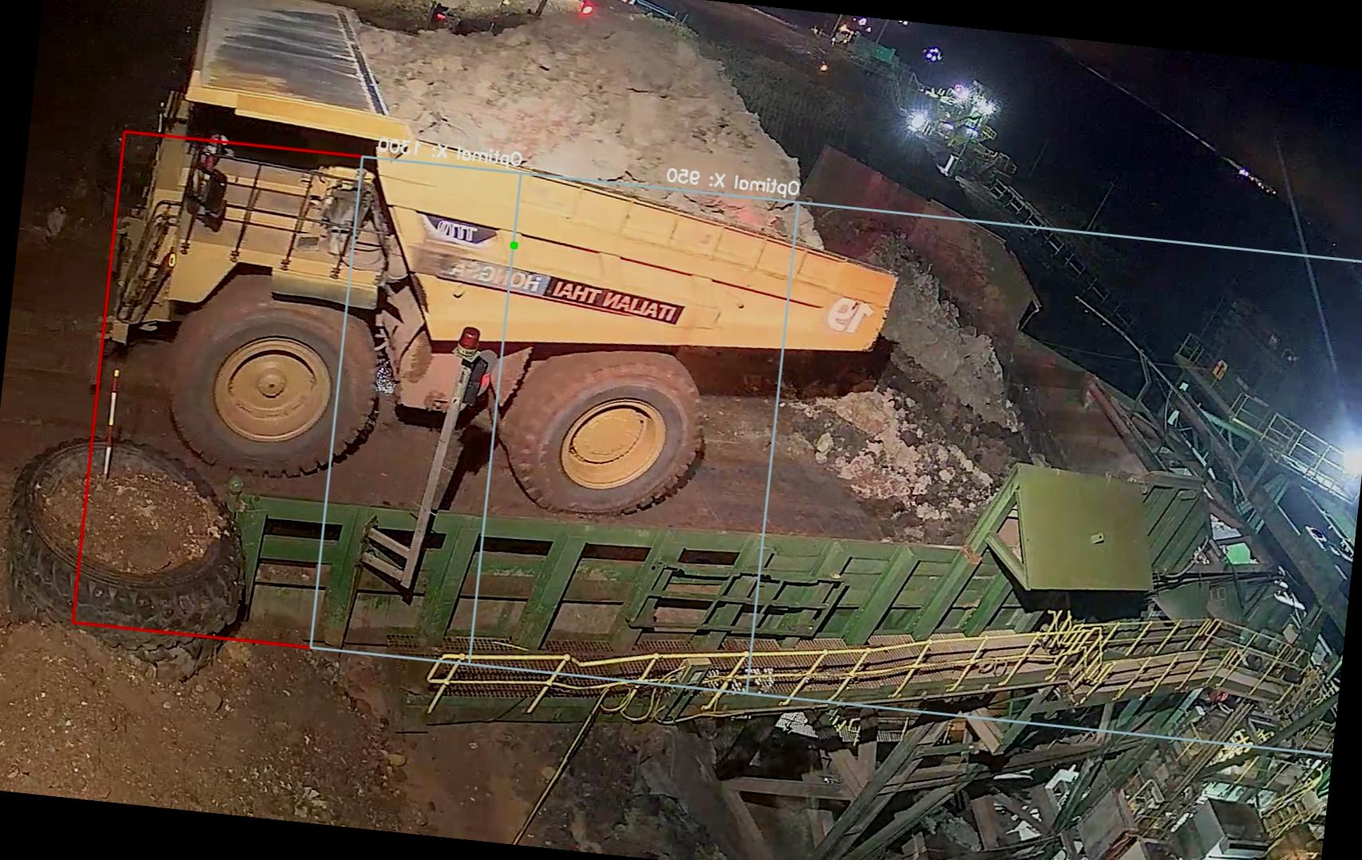company: (426, 243, 691, 334)
full_load: (397, 8, 834, 239)
mining_truck: (75, 0, 929, 542)
tail_number: (812, 286, 883, 340)
truck_size: (416, 205, 498, 248)
